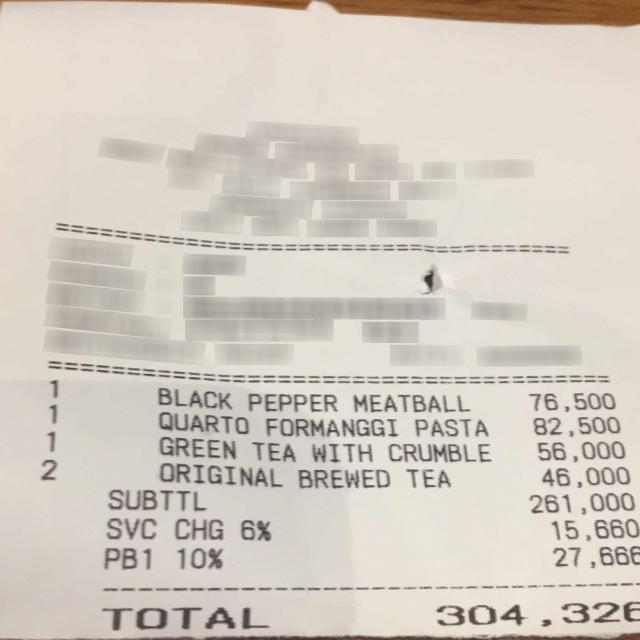text: (436, 600, 639, 628), (101, 606, 268, 630), (158, 462, 282, 488), (265, 418, 398, 437), (528, 493, 634, 515), (353, 394, 470, 413), (108, 488, 207, 510), (157, 437, 244, 461), (550, 518, 640, 541), (541, 465, 630, 488), (297, 468, 389, 490), (158, 412, 248, 434), (388, 443, 491, 462), (537, 440, 625, 462), (553, 546, 639, 568), (246, 393, 336, 413), (528, 392, 616, 412), (532, 416, 620, 436), (157, 388, 232, 410), (414, 418, 488, 437), (103, 516, 157, 540), (311, 443, 372, 463), (174, 518, 222, 540), (103, 548, 150, 569), (177, 548, 222, 569), (251, 442, 295, 462), (405, 468, 450, 487), (241, 520, 271, 540), (41, 459, 56, 480), (46, 432, 58, 453), (48, 404, 58, 425), (50, 380, 60, 398)
